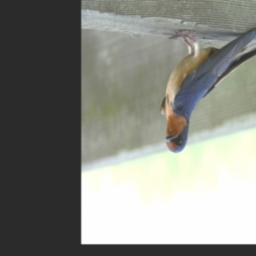Swallow: (159, 24, 256, 156)
